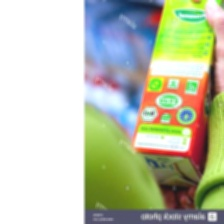carton: (128, 0, 223, 191)
